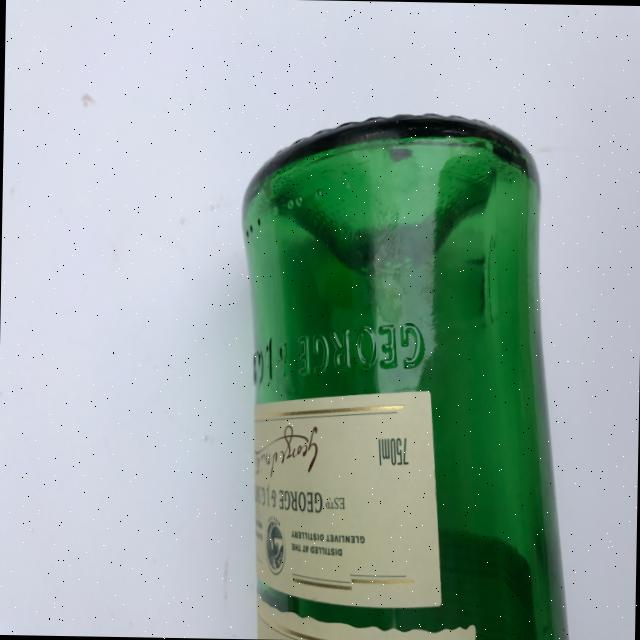glass: (235, 113, 577, 635)
